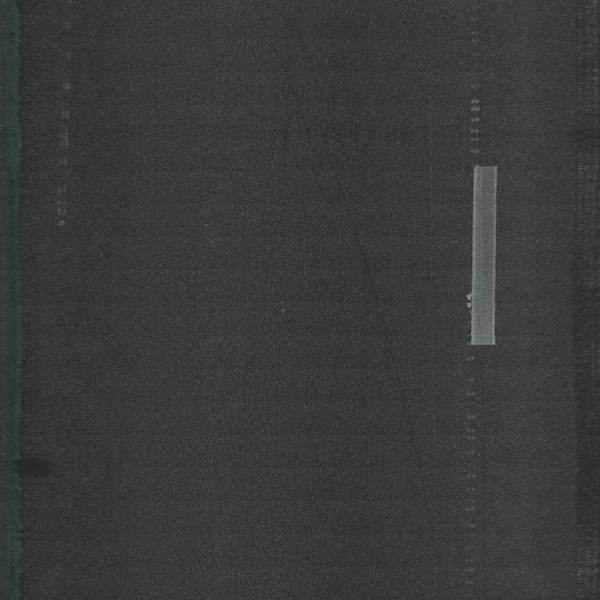road_damage: (320, 131, 442, 562)
